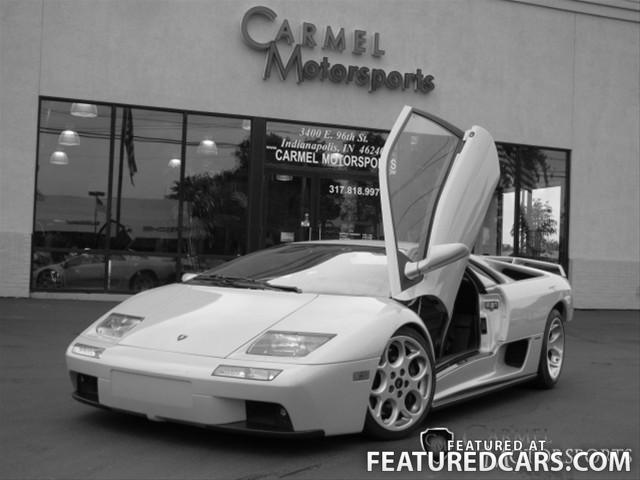car: (63, 101, 579, 452)
